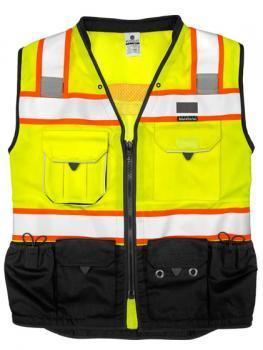vest: (7, 10, 258, 343)
